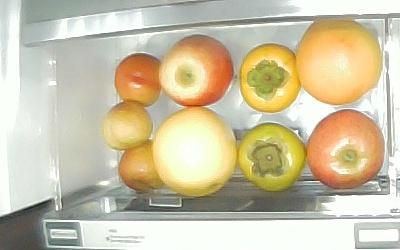apple: (307, 109, 386, 189), (159, 34, 234, 106)
grapefruit: (151, 106, 236, 195), (296, 20, 381, 105)
persimmon: (239, 122, 306, 190), (239, 43, 300, 112)
prune: (114, 53, 160, 106), (103, 101, 152, 150), (118, 138, 161, 191)
